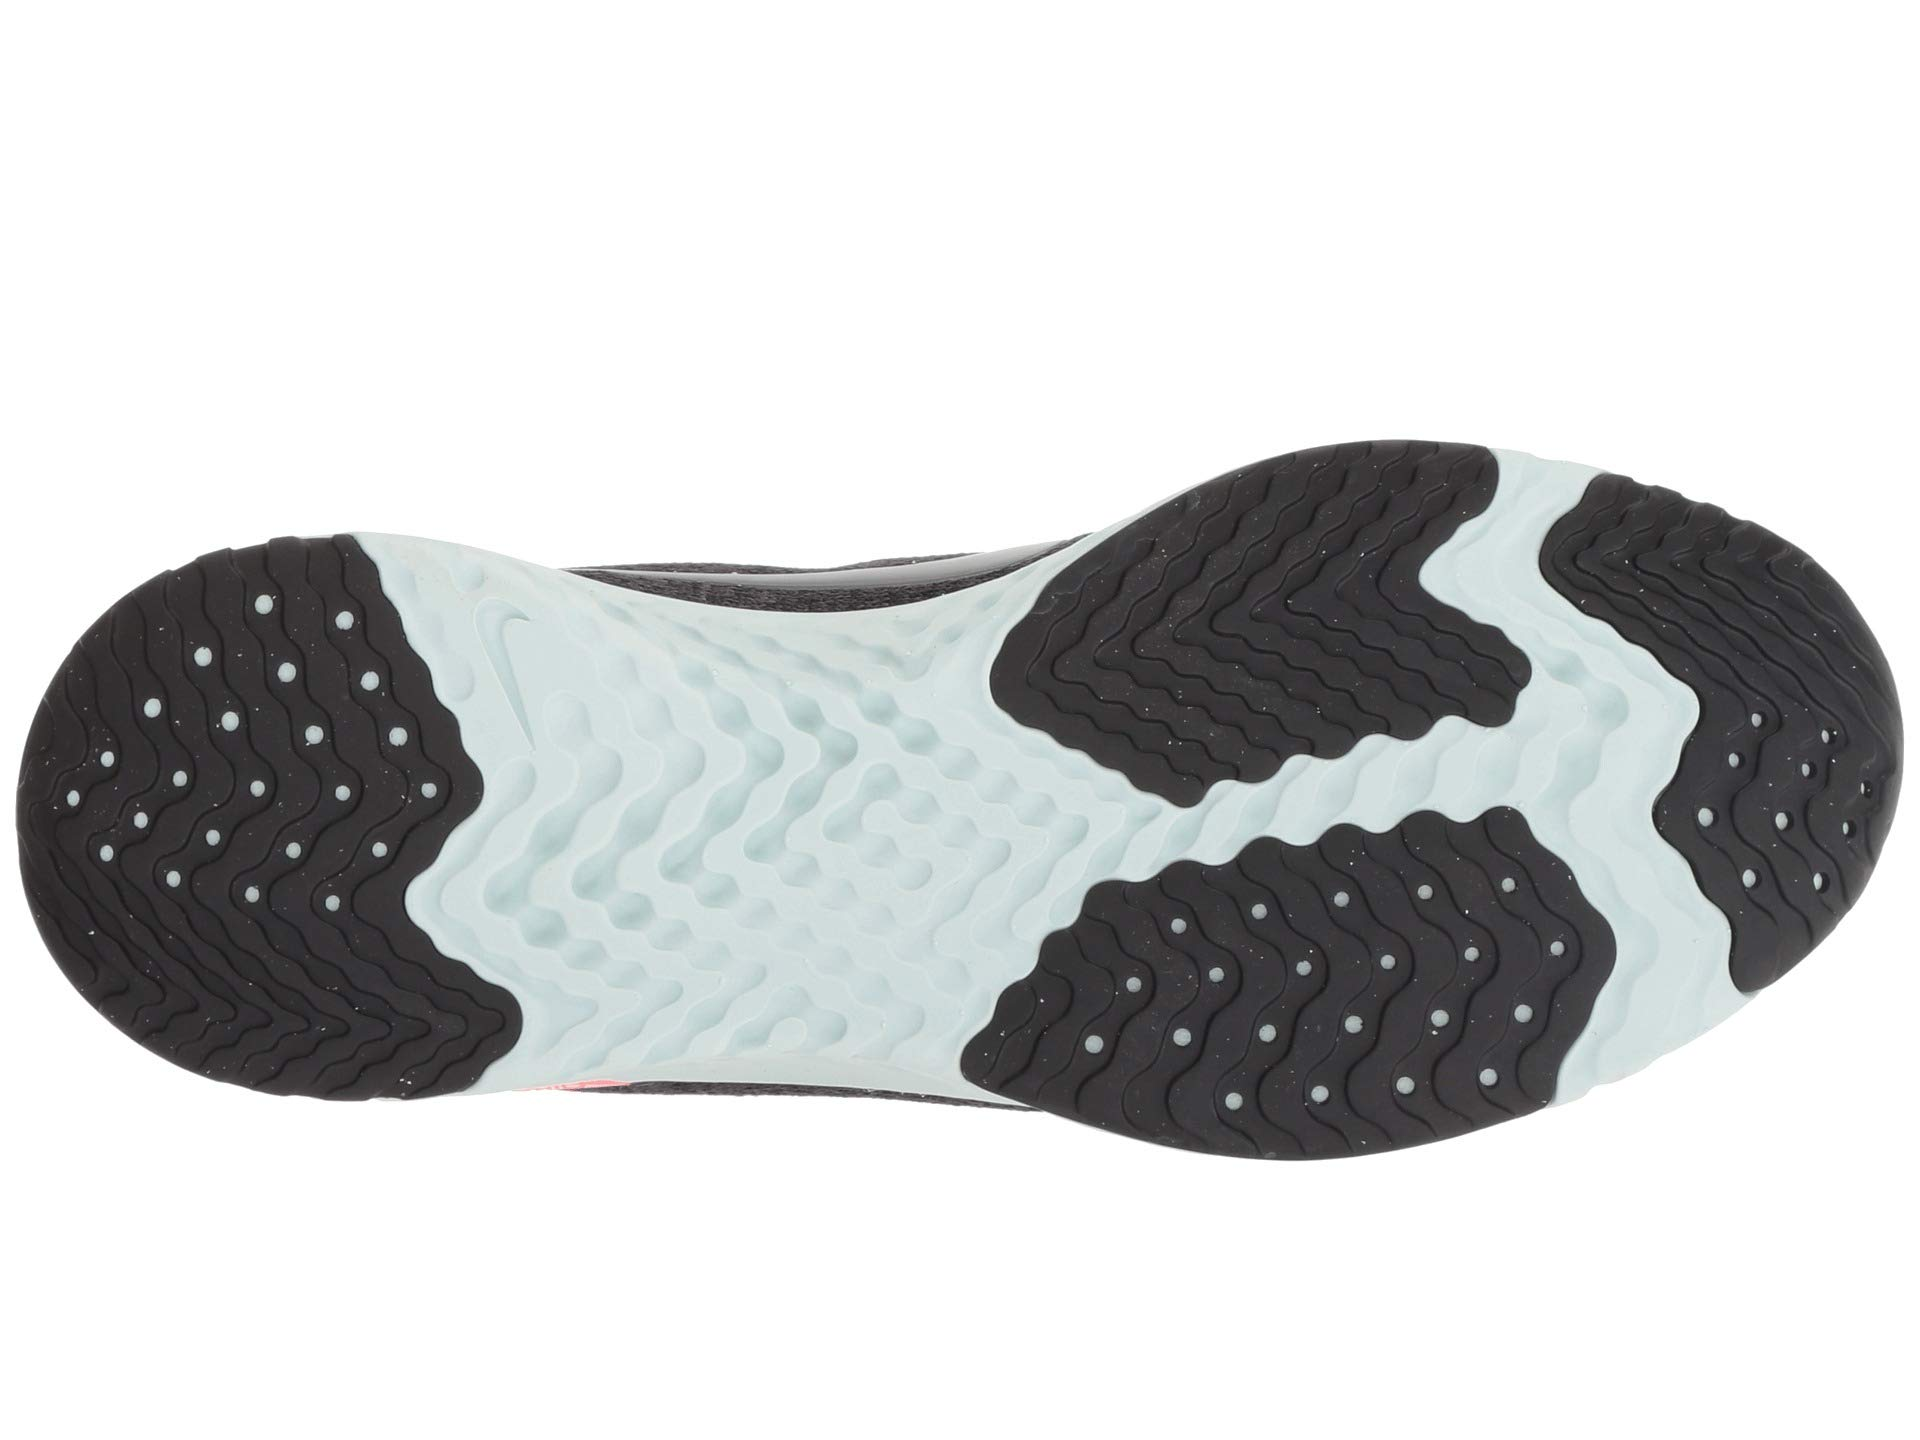circle: (138, 620, 447, 889), (1135, 911, 1524, 1080), (1714, 722, 1841, 905)
